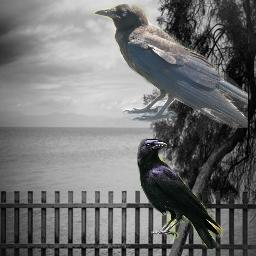Crow: (93, 4, 248, 128), (137, 139, 223, 250)
